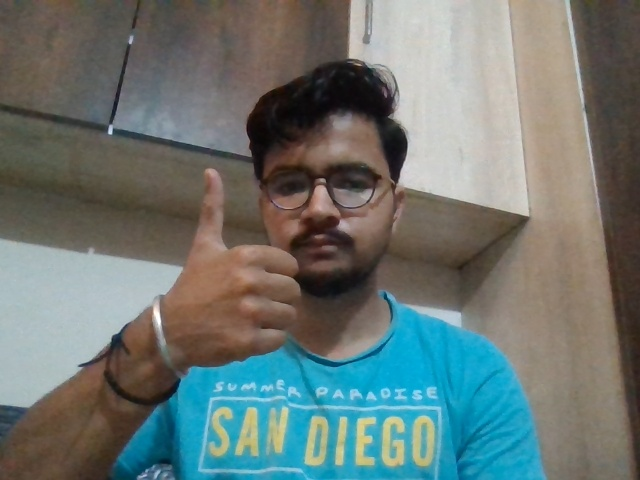yes: (135, 175, 305, 386)
